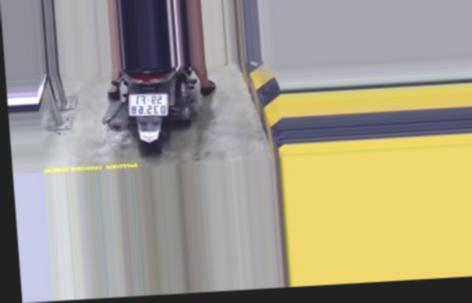License_Plate: (125, 89, 171, 120)
